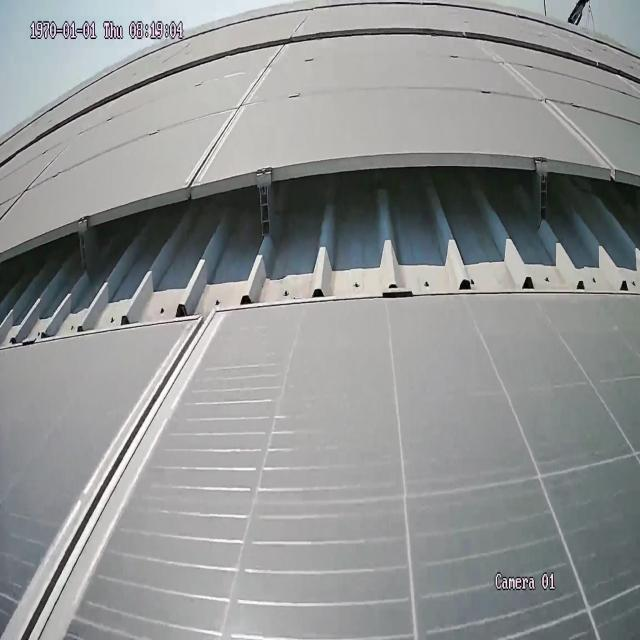interior panel: (0, 332, 210, 637), (485, 47, 607, 163), (188, 50, 283, 176)
outher panel: (0, 155, 637, 351)
